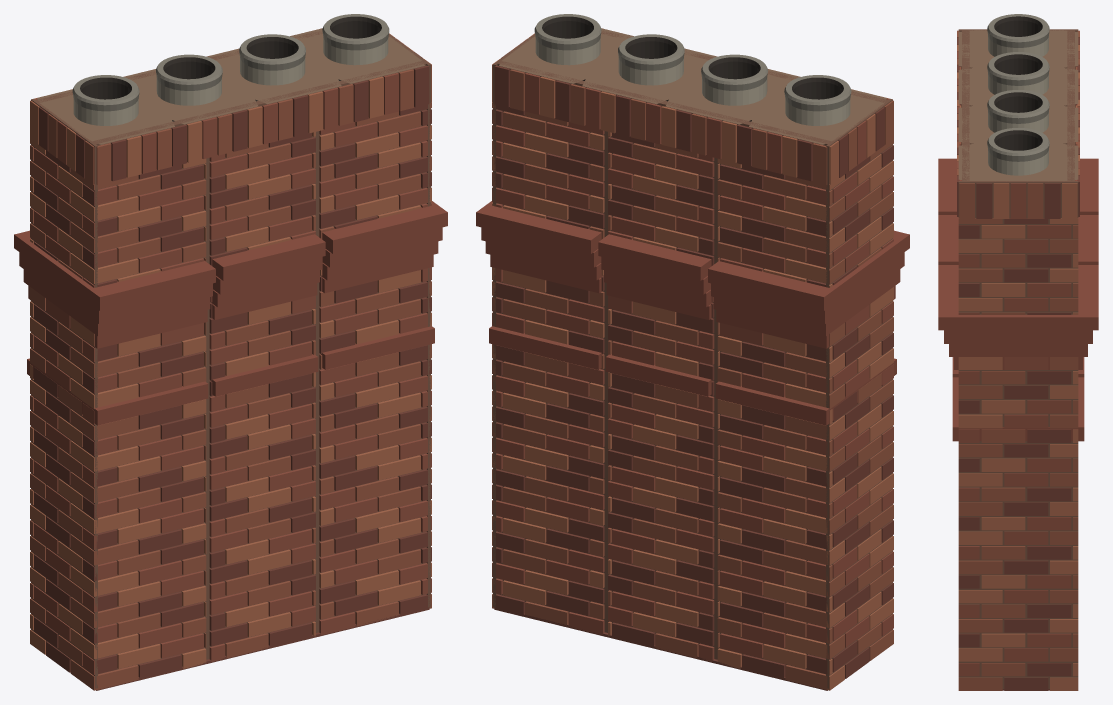
File: changning-wuyi-234-four-flue-chimney-web.glb
The picture shows the model from 3 angles, left to right: view 1: azimuth 30°, elevation 25°; view 2: azimuth 150°, elevation 25°; view 3: azimuth 270°, elevation 25°; orthographic projection. The views are drawn at different scales.
Parts seen in each view (by area): view 1: 武夷路234号住宅中央屋坡四孔砖烟囱; view 2: 武夷路234号住宅中央屋坡四孔砖烟囱; view 3: 武夷路234号住宅中央屋坡四孔砖烟囱.
Part boxes in pixels (left/top/right/bottom): 武夷路234号住宅中央屋坡四孔砖烟囱: left=14, top=14, right=447, bottom=690; 武夷路234号住宅中央屋坡四孔砖烟囱: left=476, top=14, right=909, bottom=690; 武夷路234号住宅中央屋坡四孔砖烟囱: left=938, top=14, right=1098, bottom=690.
Bounding box in the file's own units: 1.72 × 2.69 × 0.736.
